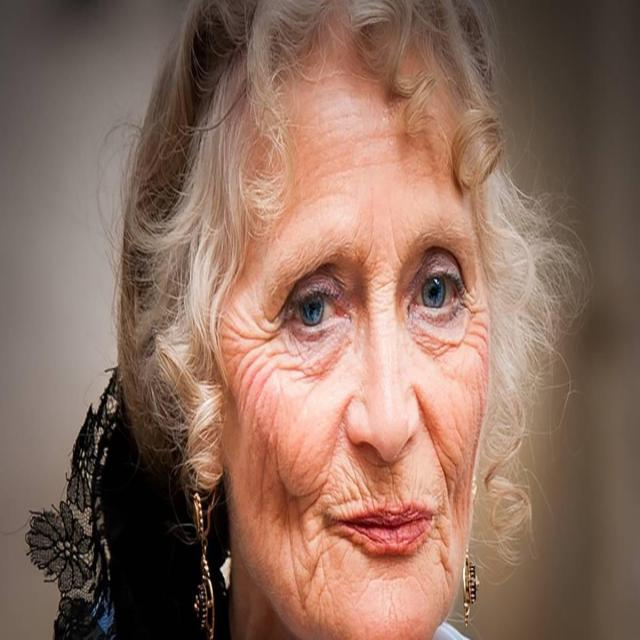Wrinkles: (256, 404, 329, 617), (226, 309, 331, 450), (413, 292, 488, 377), (312, 143, 433, 182), (306, 538, 340, 631), (466, 372, 483, 509), (302, 102, 372, 128), (428, 523, 453, 590), (302, 84, 385, 103), (439, 441, 461, 480), (452, 411, 464, 441)
